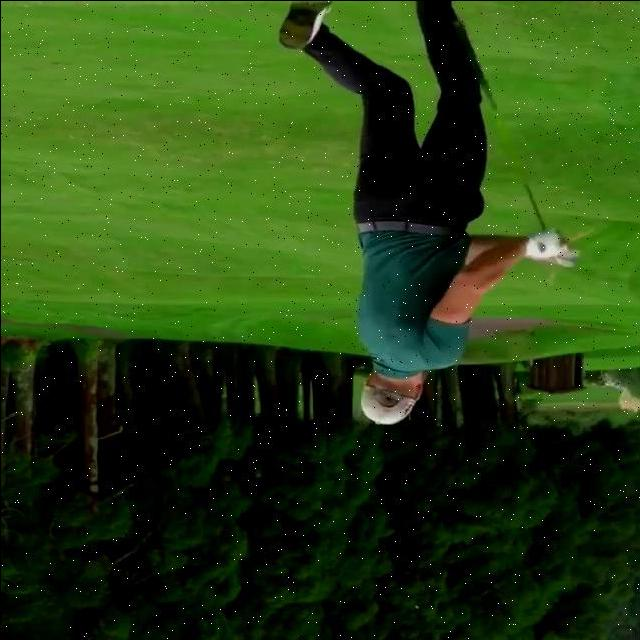ClubHandle: (449, 16, 577, 266)
ClubHead: (553, 250, 577, 268)
